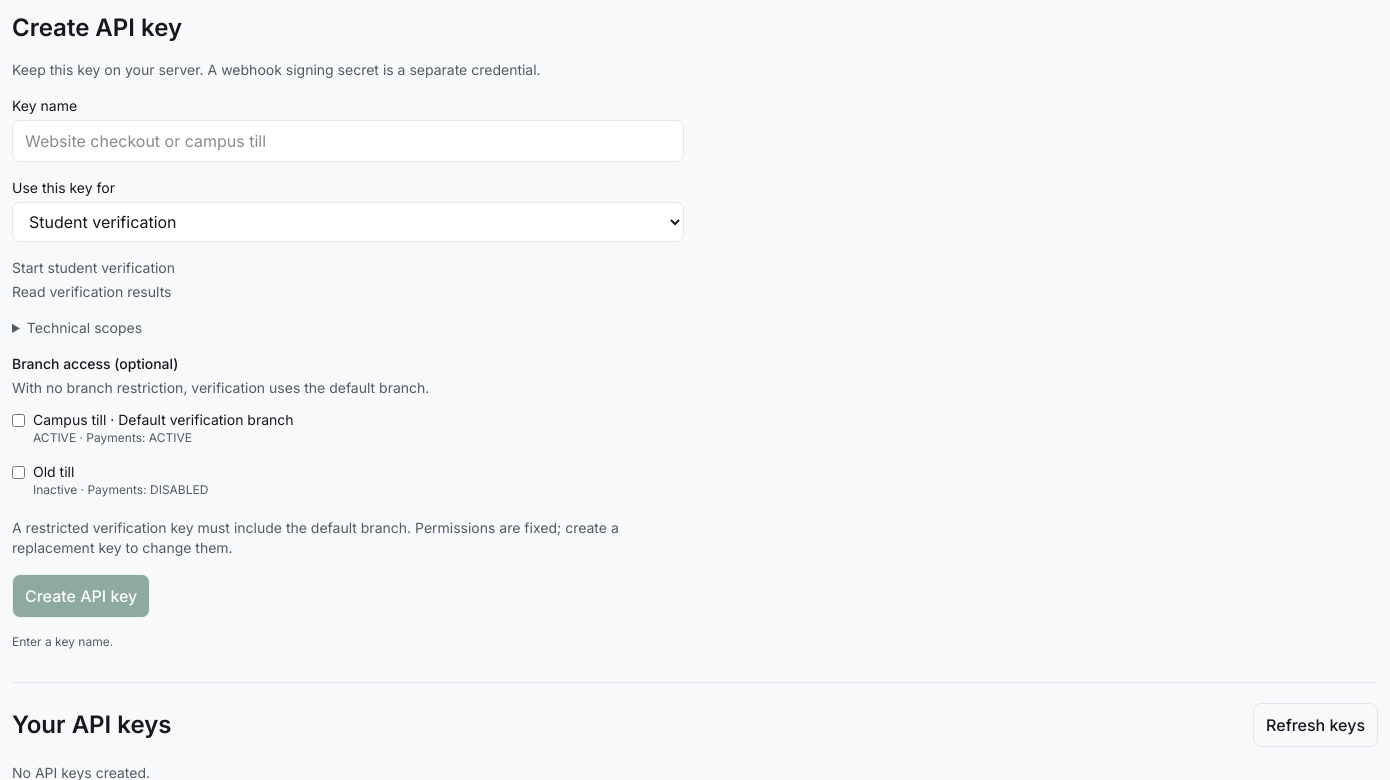
it: API key settings › requires the default verification branch when a custom key is restricted
Step 1. Type "Restricted" into the field labelled "Key name" → (348, 141), box x1=12 y1=120 x2=684 y2=162
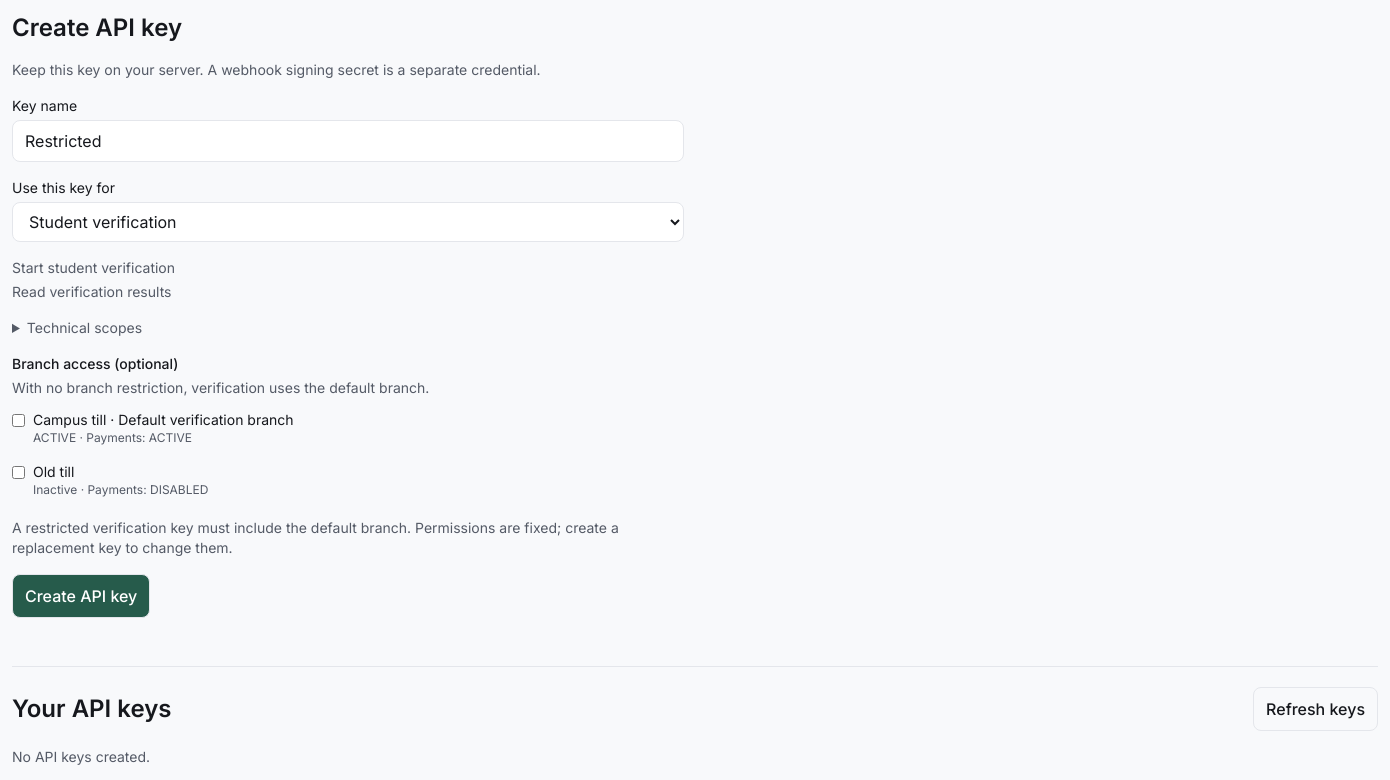
Step 2. Click the checkbox labelled "Old till Inactive · Payments: DISABLED" → (18, 472), box x1=12 y1=466 x2=25 y2=479
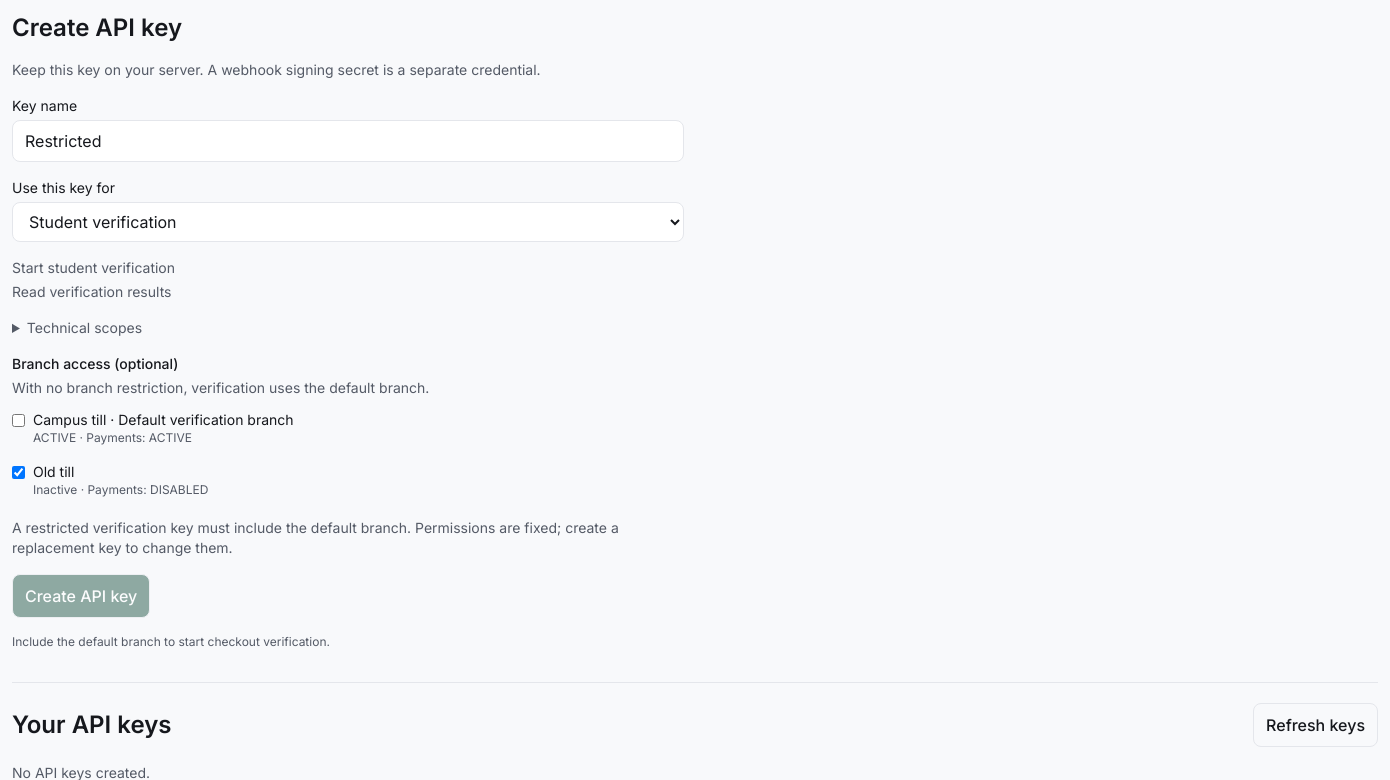
Check: the text "Include the default branch to start checkout verification." is shown, box x1=12 y1=634 x2=330 y2=649
Check: the button "Create API key" is disabled, box x1=12 y1=574 x2=150 y2=618
